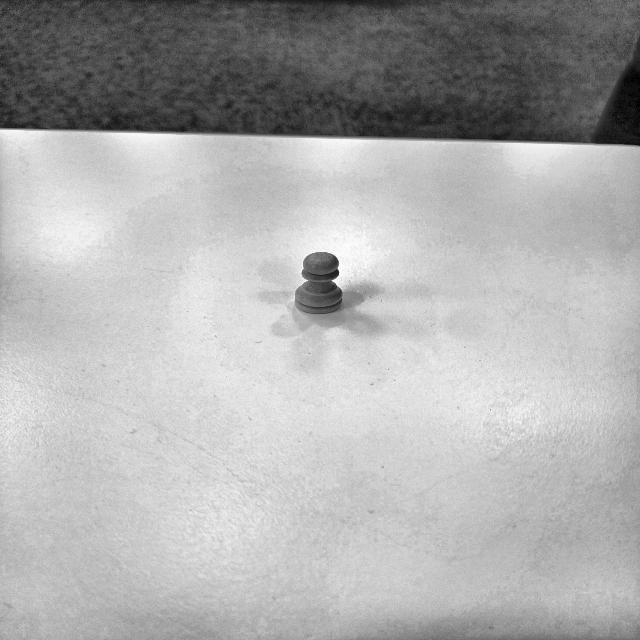white-pawn: (295, 252, 343, 315)
